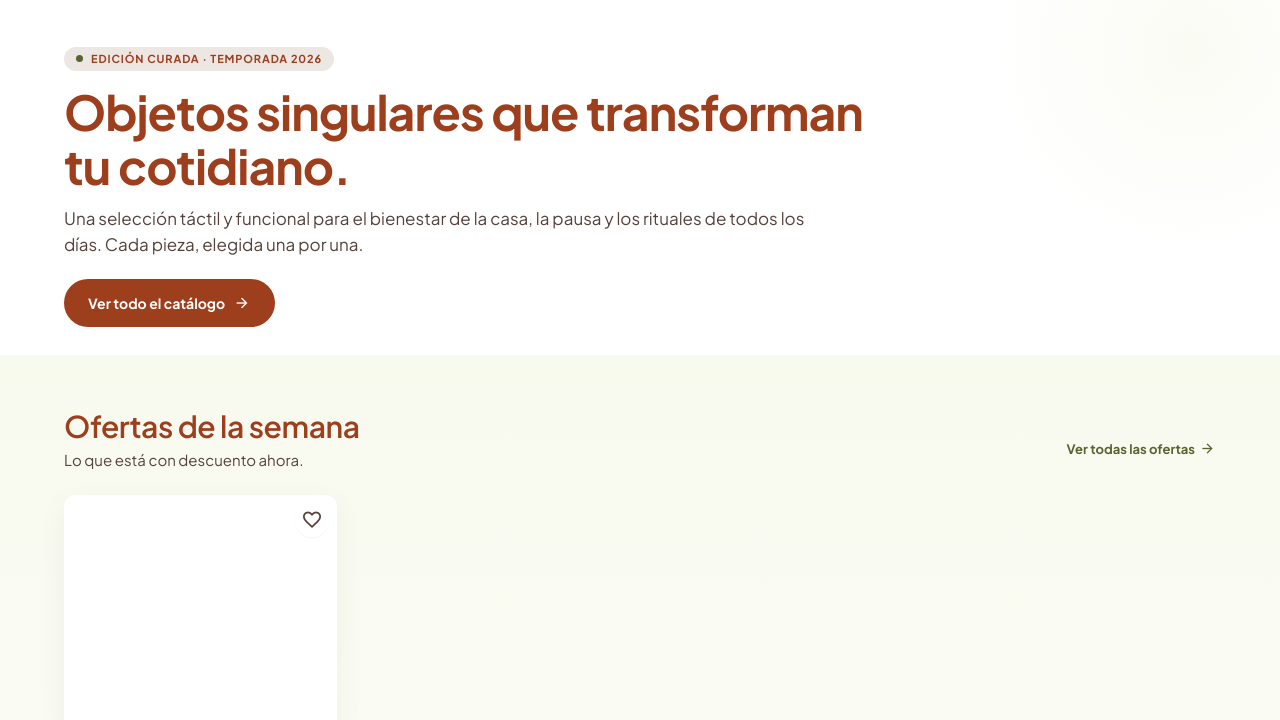
Test: Catalogo - home editorial › clickear el botón del hero renderiza la página de colección
# `findBy`: la home arranca tapada por el loader de carga inicial.
Click the link "Ver todo el catálogo": (170, 302) [64,278,275,326]
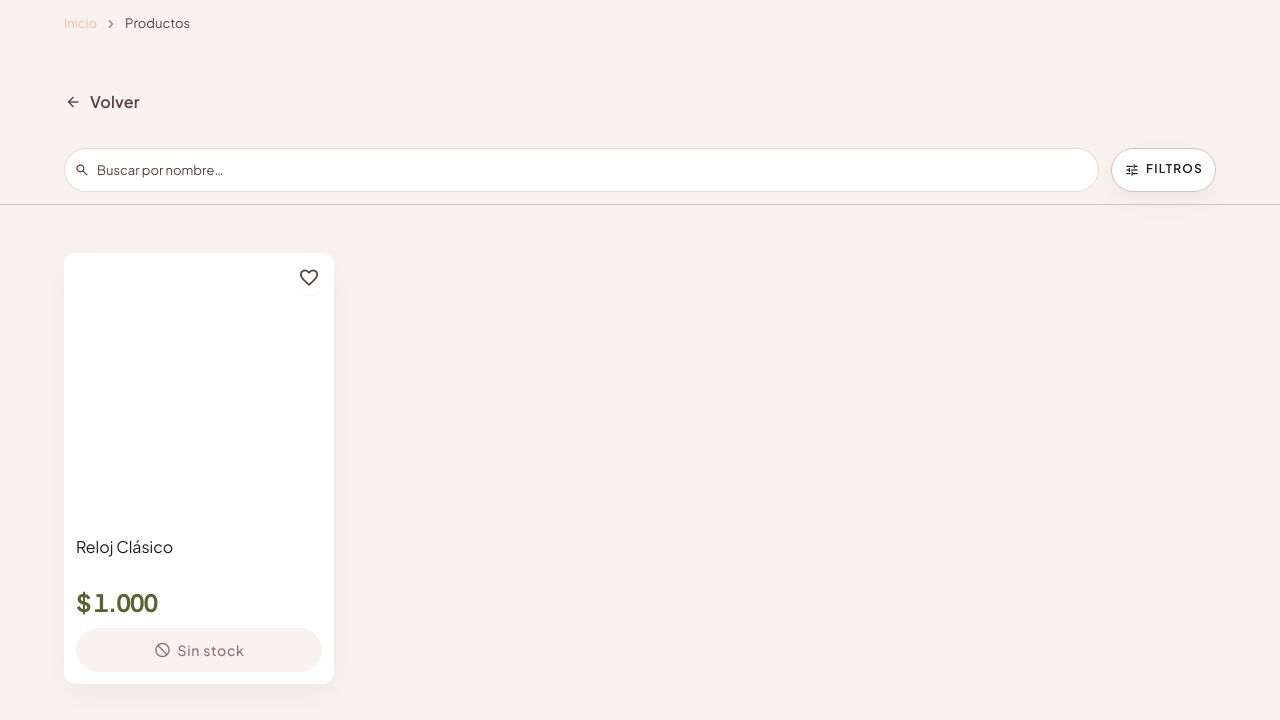
Result: the field labelled "Buscar" is shown at [64,148,1099,192]
